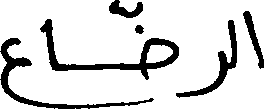ا: (240, 8, 261, 68), (42, 16, 59, 73)
ر: (192, 49, 226, 97)
ض: (128, 14, 177, 78)
ع: (0, 35, 30, 105)
ل: (225, 18, 236, 75)
